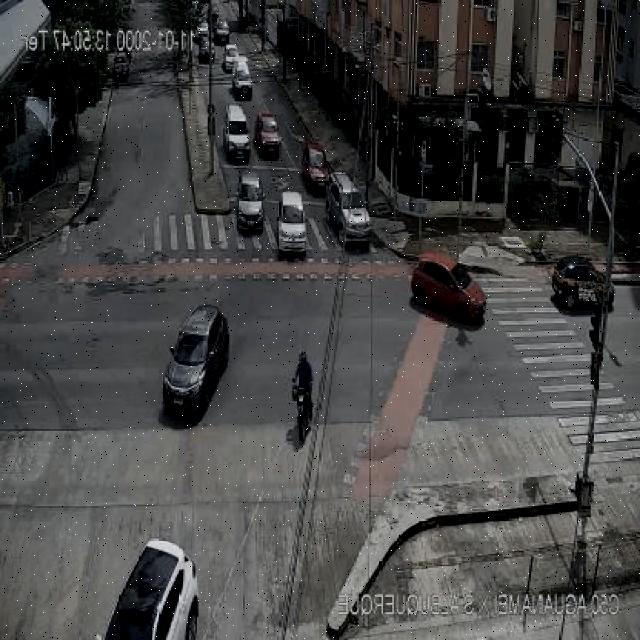Car: (159, 290, 243, 419), (107, 522, 197, 640), (411, 253, 496, 327), (549, 250, 617, 312), (326, 172, 367, 239), (278, 189, 310, 256), (222, 108, 254, 163), (237, 170, 263, 234), (301, 139, 331, 189), (255, 109, 284, 160), (232, 59, 254, 100), (211, 17, 236, 47), (195, 35, 214, 61), (221, 46, 240, 68)
Cycle: (280, 349, 338, 436)
